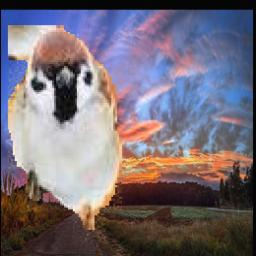Sparrow: (8, 26, 122, 254)
